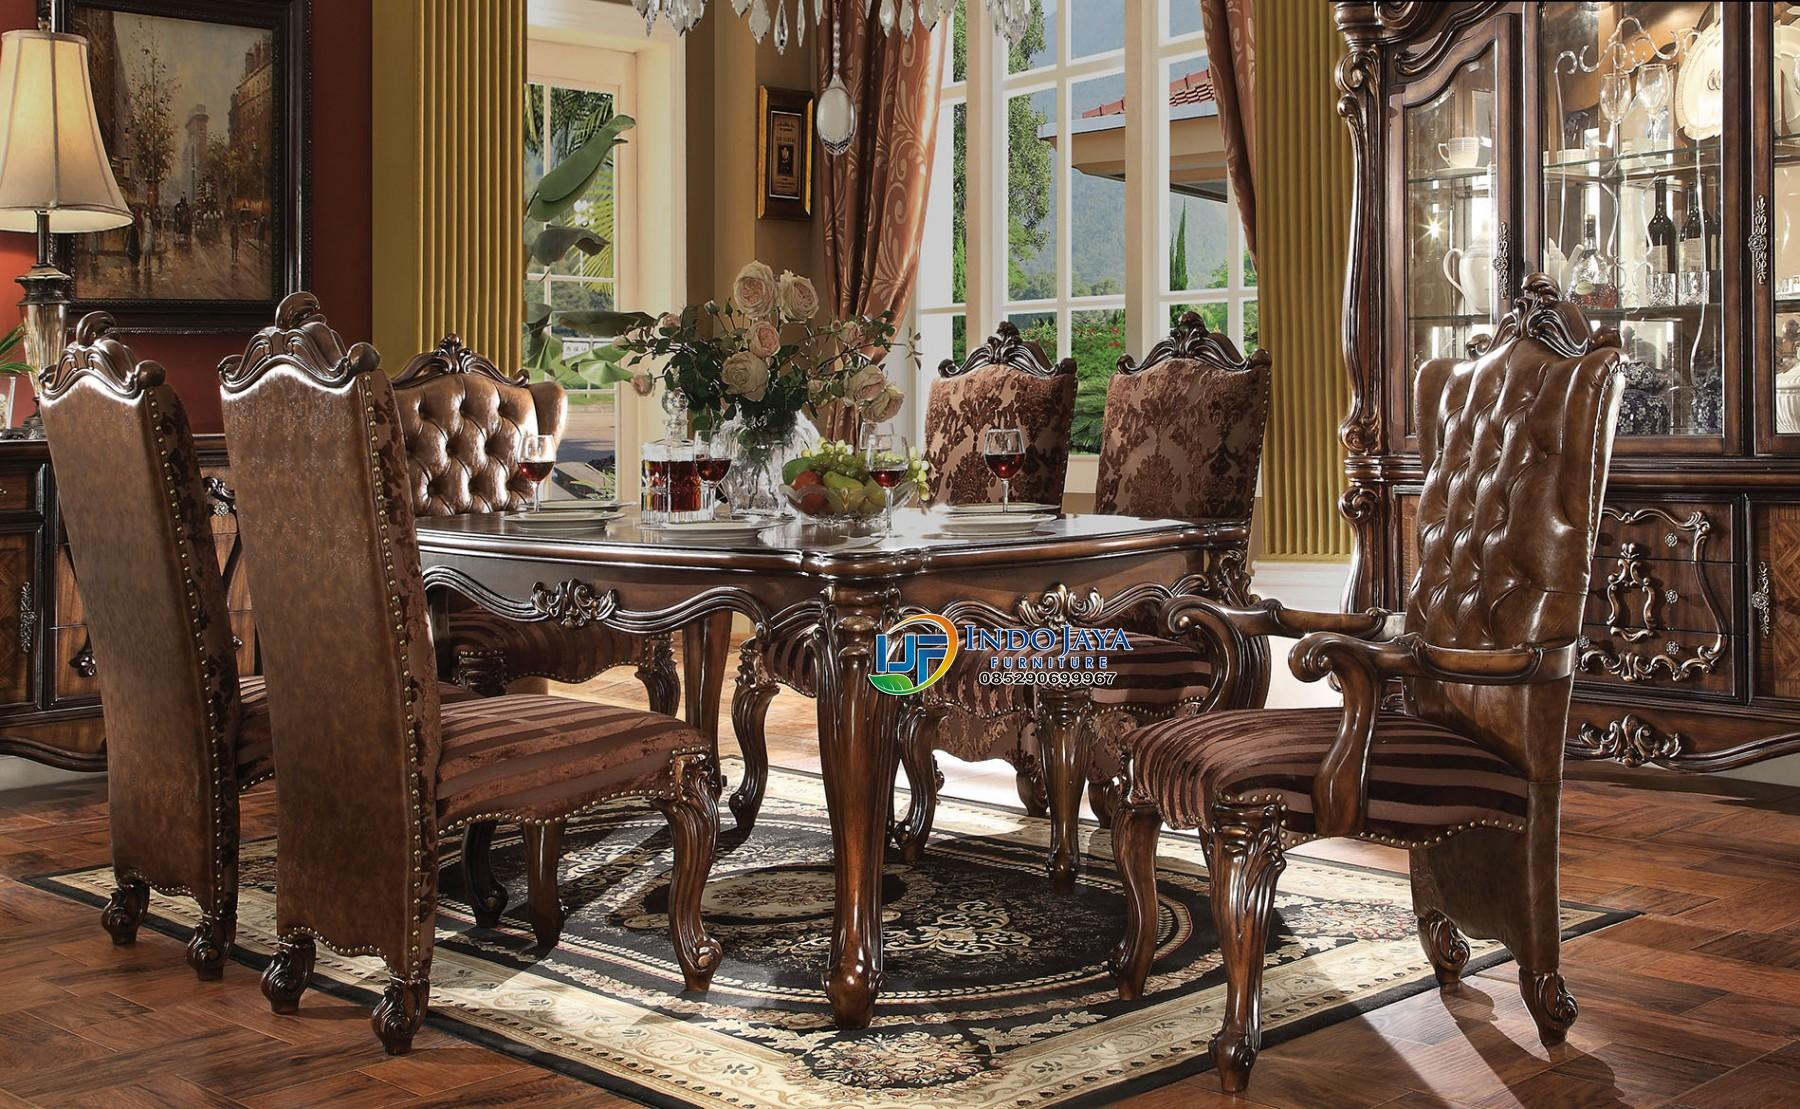Carving Chair: (1169, 353, 1634, 1095)
Carving Table: (221, 473, 1194, 1022)
